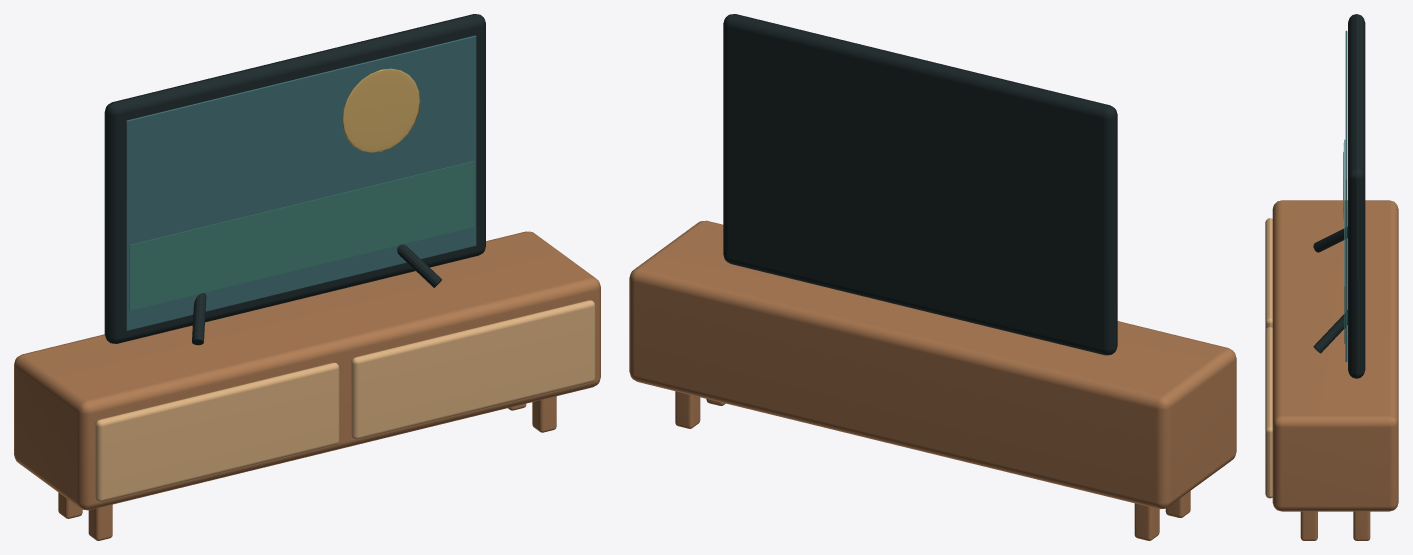
3 views of the same model, side by side, from view 1: azimuth 30°, elevation 25°; view 2: azimuth 150°, elevation 25°; view 3: azimuth 270°, elevation 25° (orthographic). The views are drawn at different scales.
Parts seen in each view (by area): view 1: Media cabinet, Television screen, Abstract screen horizon, Media door.001, Media door, Television, Screen sun, Tapered leg.025, Tapered leg.027; view 2: Television, Media cabinet, Tapered leg.024, Tapered leg.026; view 3: Media cabinet, Television, Media door.001, Television screen, Media door, Tapered leg.027, Tapered leg.026, TV stand.001, Abstract screen horizon, TV stand.
Boxes of the visible parts, x1,y1,x2,y2 form: Media cabinet: (14,231,600,510); Television screen: (126,35,476,330); Abstract screen horizon: (129,161,474,310); Media door.001: (351,300,595,439); Media door: (95,362,339,502); Television: (104,14,485,343); Screen sun: (342,68,420,152); Tapered leg.025: (88,504,112,540); Tapered leg.027: (532,396,556,432); Television: (723,14,1117,355); Media cabinet: (629,220,1236,509); Tapered leg.024: (1134,503,1159,540); Tapered leg.026: (675,391,700,428); Media cabinet: (1272,200,1398,511); Television: (1348,14,1365,378); Media door.001: (1265,327,1272,498); Television screen: (1345,30,1347,362); Media door: (1265,218,1272,330); Tapered leg.027: (1300,511,1317,540); Tapered leg.026: (1353,511,1370,540); TV stand.001: (1313,310,1347,353); Abstract screen horizon: (1344,139,1345,343); TV stand: (1313,226,1347,252).
Size of the model in its own units: 2 by 1.48 by 0.5075.
